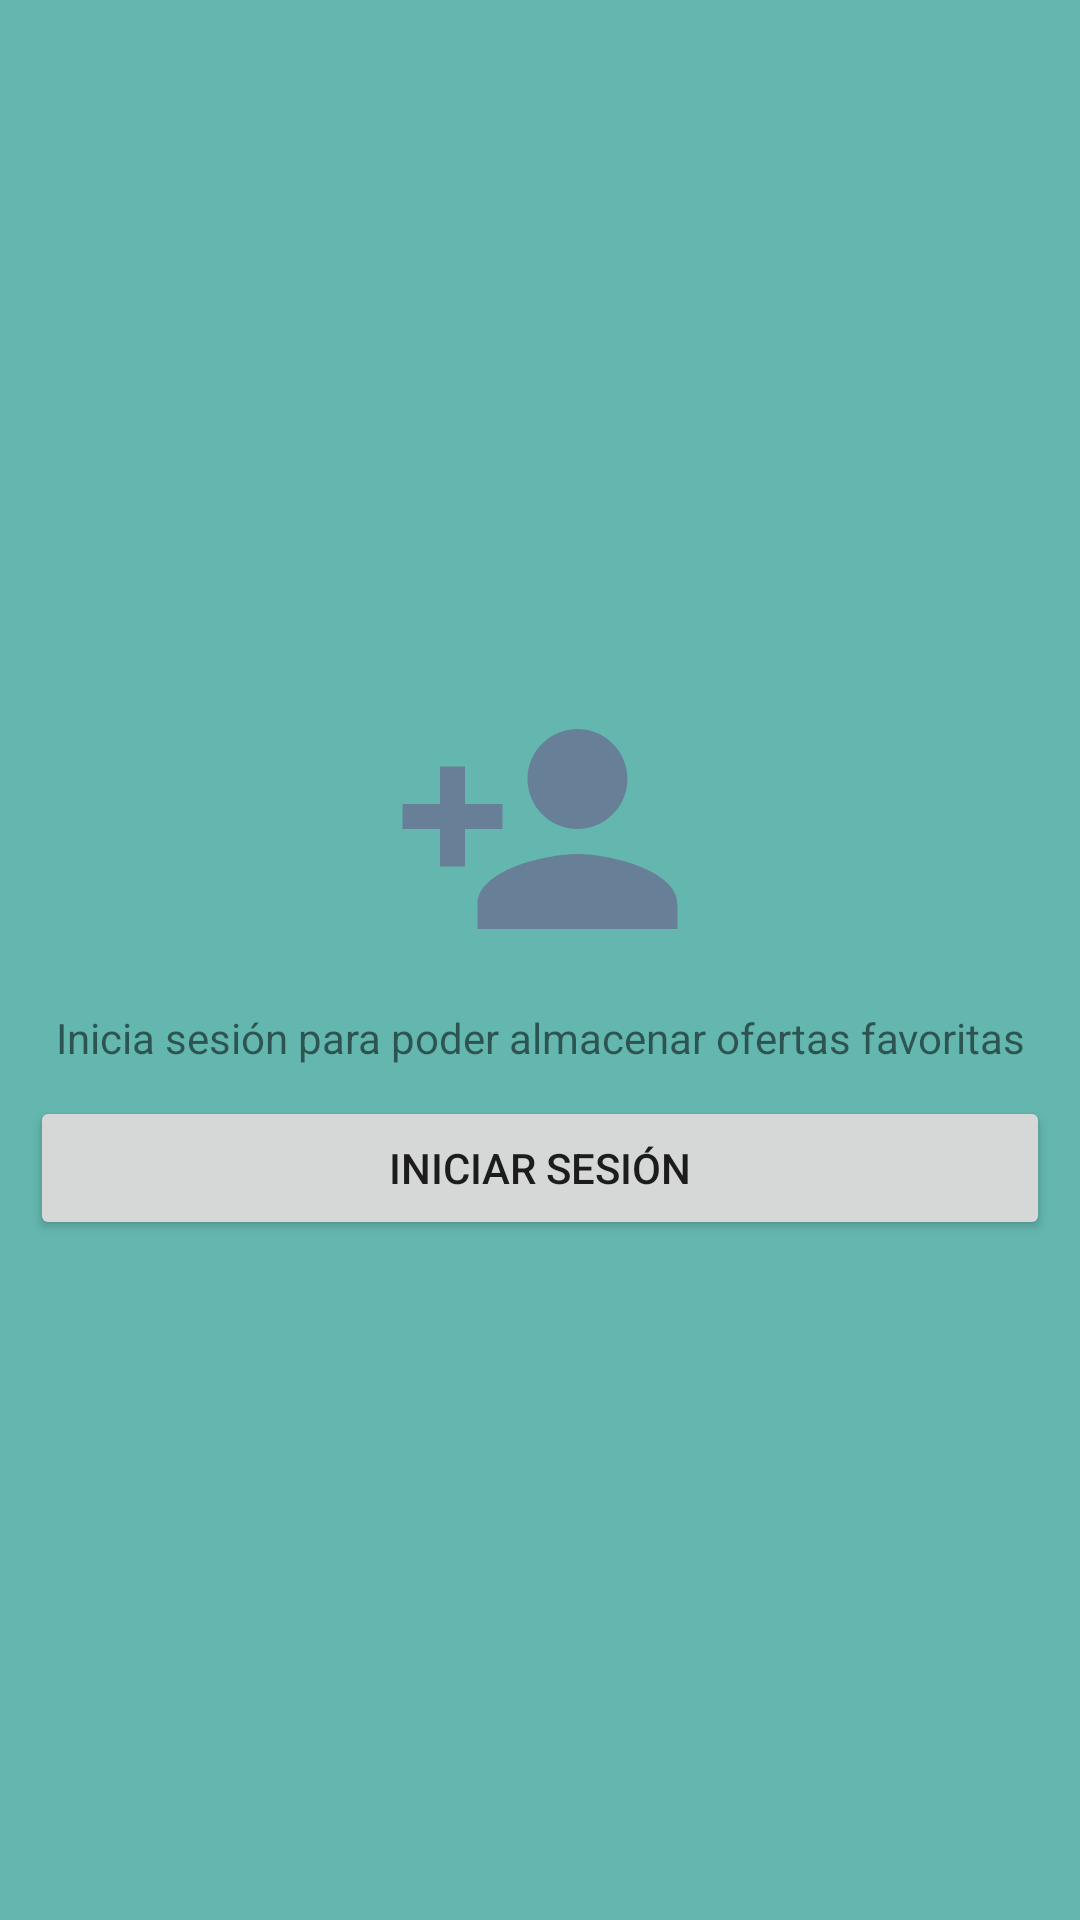

Named icons in this screenshot (1080px×1920px) and their bounding boxes, [x1=x1, y1=y1, x2=x2, y2=y2]:
login: [x1=402, y1=729, x2=678, y2=929]
